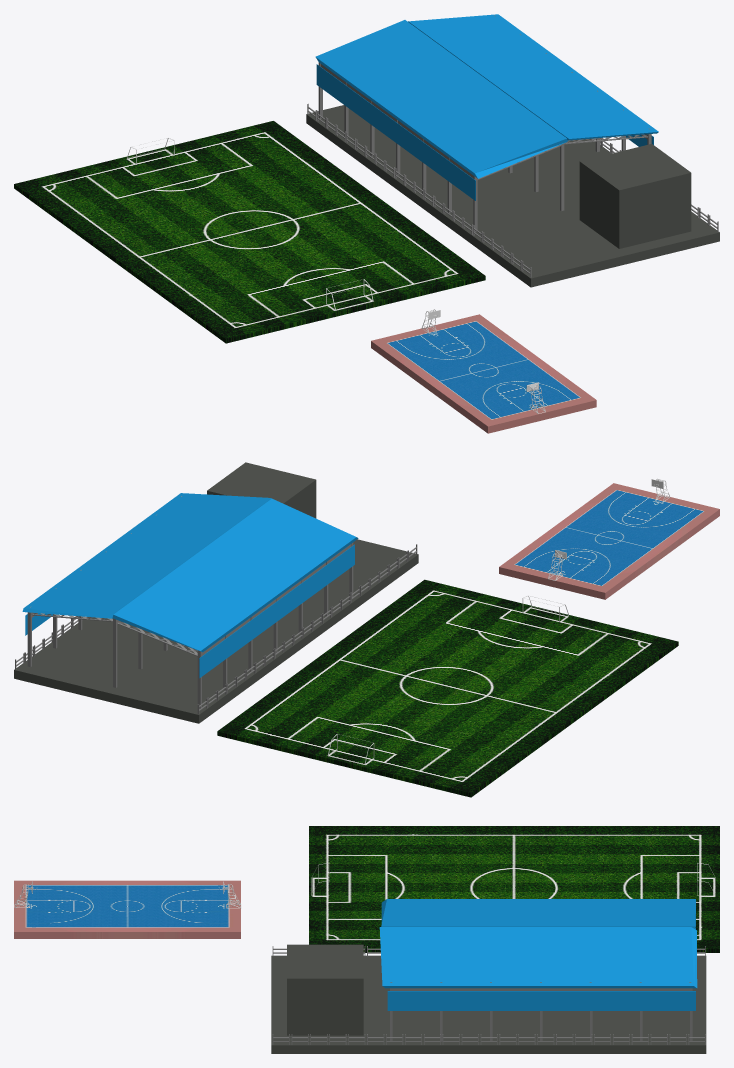
Rendered from Dern_teh_barn_basketball.glb.
3 renders of one model, top to bottom at view 1: azimuth 30°, elevation 25°; view 2: azimuth 150°, elevation 25°; view 3: azimuth 270°, elevation 25°, orthographic. The views are drawn at different scales.
Visible parts, largest first — view 1: Plane, Plane.001, Cube.012, b, Cube.009, Cube.008, Cube.021, Cube.018, Cube.023; view 2: Plane, Plane.001, Cube.012, b, Cube.009, Cube.021, Cube.008, Cube.018, Cube.023, Cube.031, Cube.025; view 3: Plane, Cube.009, Plane.001, b, Cube.012, Cube.008, Cube.022, Cube.002, Cube.025, Cube.018.
Boxes of the visible parts, bbox=[...] form: Plane: bbox=[14, 121, 485, 343]; Plane.001: bbox=[306, 105, 719, 287]; Cube.012: bbox=[315, 20, 567, 178]; b: bbox=[371, 314, 596, 433]; Cube.009: bbox=[408, 14, 658, 140]; Cube.008: bbox=[579, 144, 691, 248]; Cube.021: bbox=[316, 64, 475, 200]; Cube.018: bbox=[318, 62, 651, 232]; Cube.023: bbox=[307, 103, 531, 277]; Plane: bbox=[217, 579, 678, 797]; Plane.001: bbox=[14, 539, 418, 723]; Cube.012: bbox=[112, 498, 358, 652]; b: bbox=[499, 483, 719, 599]; Cube.009: bbox=[22, 493, 271, 618]; Cube.021: bbox=[199, 544, 354, 678]; Cube.008: bbox=[207, 462, 316, 518]; Cube.018: bbox=[27, 542, 353, 708]; Cube.023: bbox=[197, 544, 417, 714]; Cube.031: bbox=[30, 496, 197, 656]; Cube.025: bbox=[32, 544, 351, 655]; Plane: bbox=[309, 826, 719, 952]; Cube.009: bbox=[379, 927, 697, 988]; Plane.001: bbox=[271, 955, 706, 1053]; b: bbox=[14, 880, 240, 938]; Cube.012: bbox=[381, 899, 695, 929]; Cube.008: bbox=[287, 944, 363, 1035]; Cube.022: bbox=[387, 991, 695, 1010]; Cube.002: bbox=[272, 1034, 705, 1044]; Cube.025: bbox=[392, 988, 689, 990]; Cube.018: bbox=[390, 988, 692, 1041].
Size of the model in its own units: 94.95 by 17.41 by 126.
Materials: 5 (2 with a texture image).
